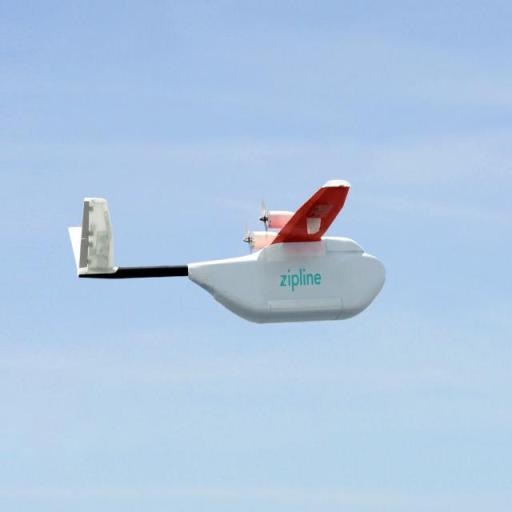uav: (56, 178, 396, 364)
